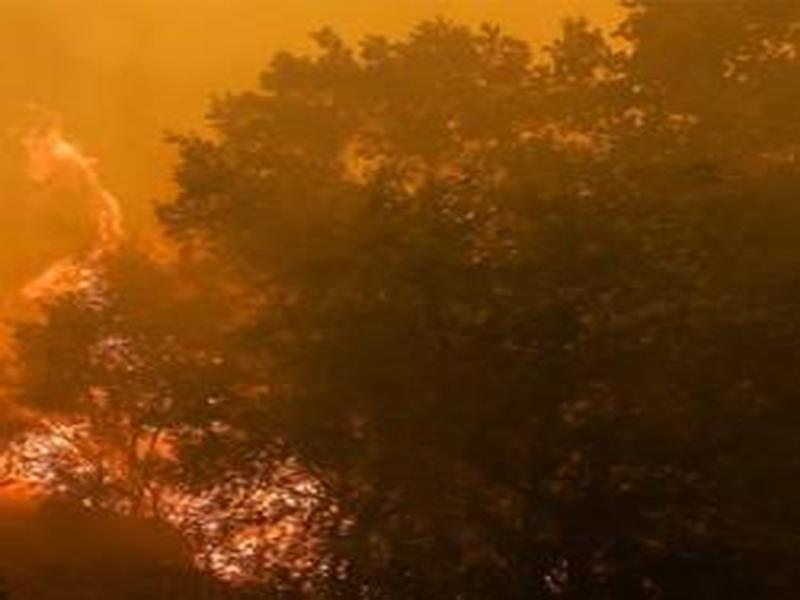FIRE: (4, 166, 681, 600)
